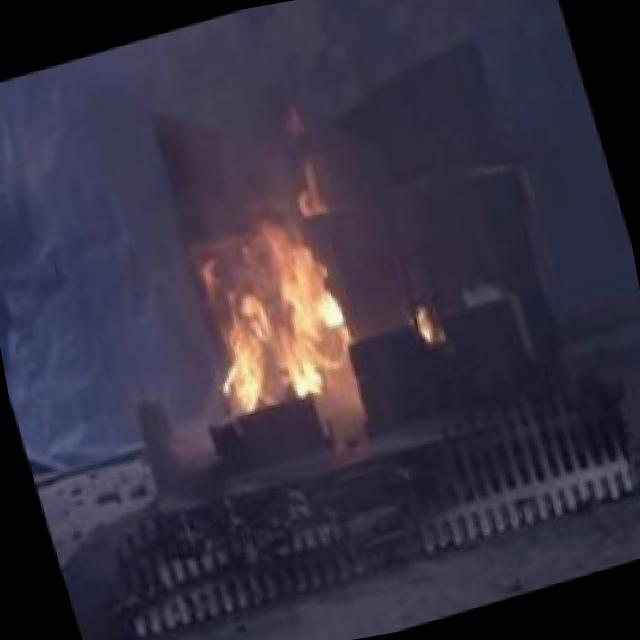fire: (153, 166, 402, 453)
